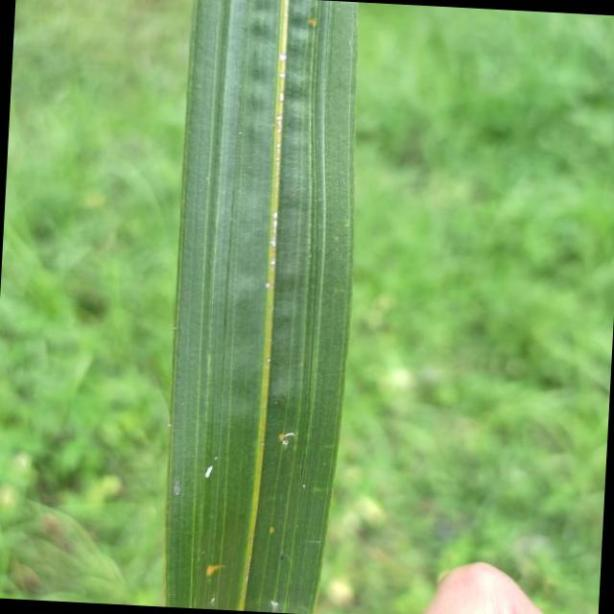Boron: (163, 0, 357, 614)
